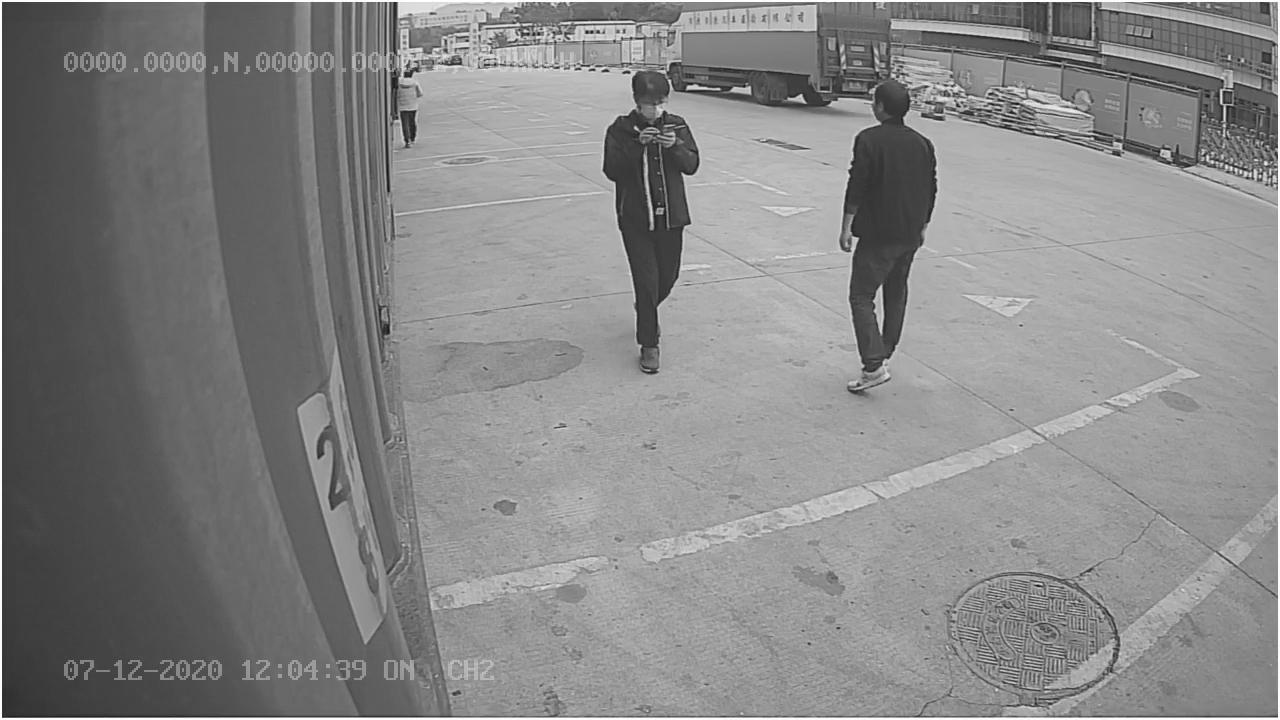person: (842, 79, 937, 395)
